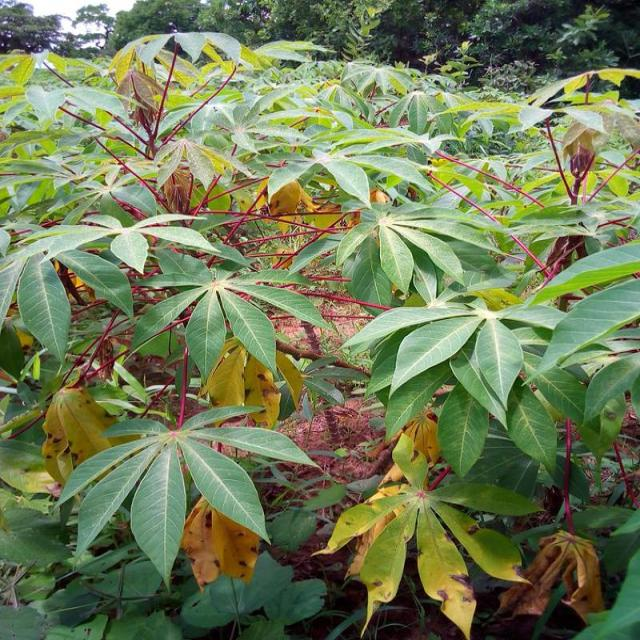cassava leaf: (2, 31, 639, 632), (55, 399, 322, 590)
